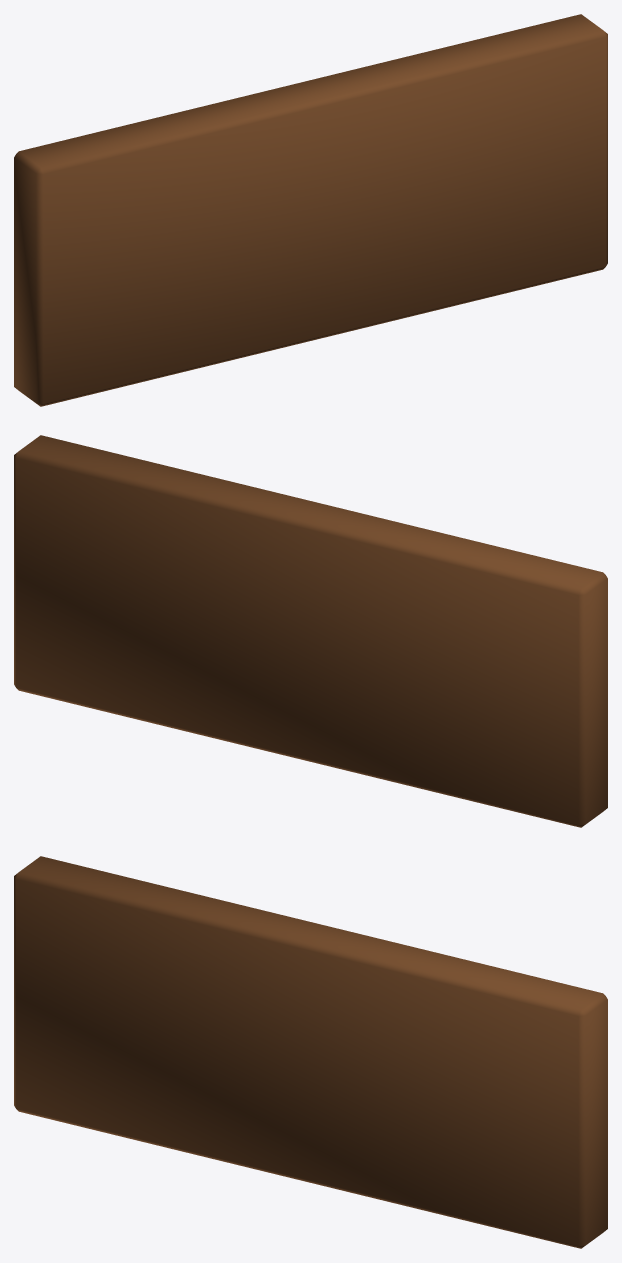
File: button.bg.001.glb
3 views of the same model, one above another, from view 1: azimuth 30°, elevation 25°; view 2: azimuth 150°, elevation 25°; view 3: azimuth 330°, elevation 25° (orthographic).
Parts seen in each view (by area): view 1: button.bg.001; view 2: button.bg.001; view 3: button.bg.001.
Boxes of the visible parts, x1,y1,x2,y2 form: button.bg.001: (14,14,607,406); button.bg.001: (14,435,607,827); button.bg.001: (14,856,607,1248).
Bounding box in the file's own units: 6 × 2.4 × 0.5.
